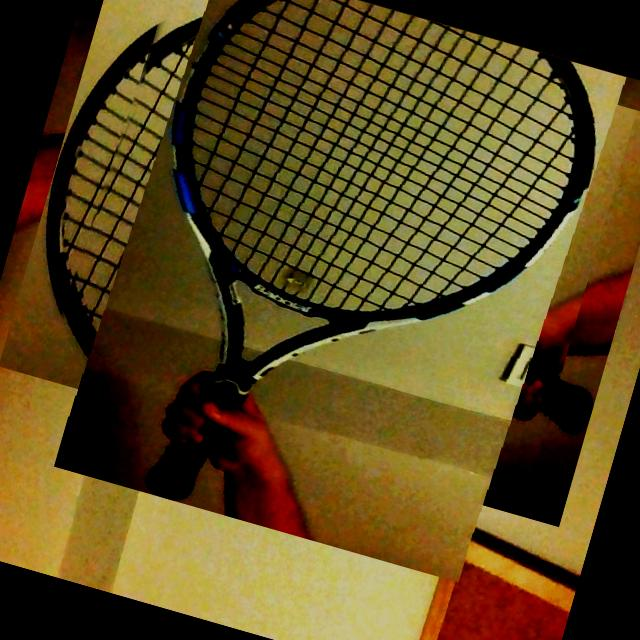TennisRacket: (25, 0, 640, 553)
